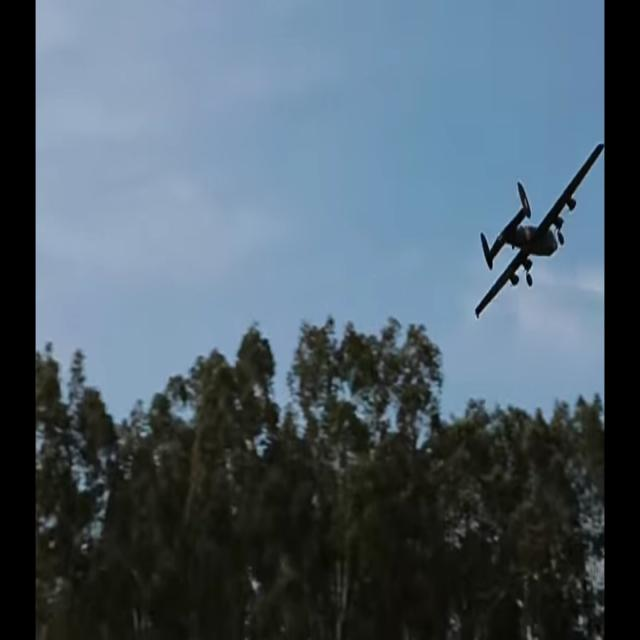iha: (473, 138, 605, 322)
